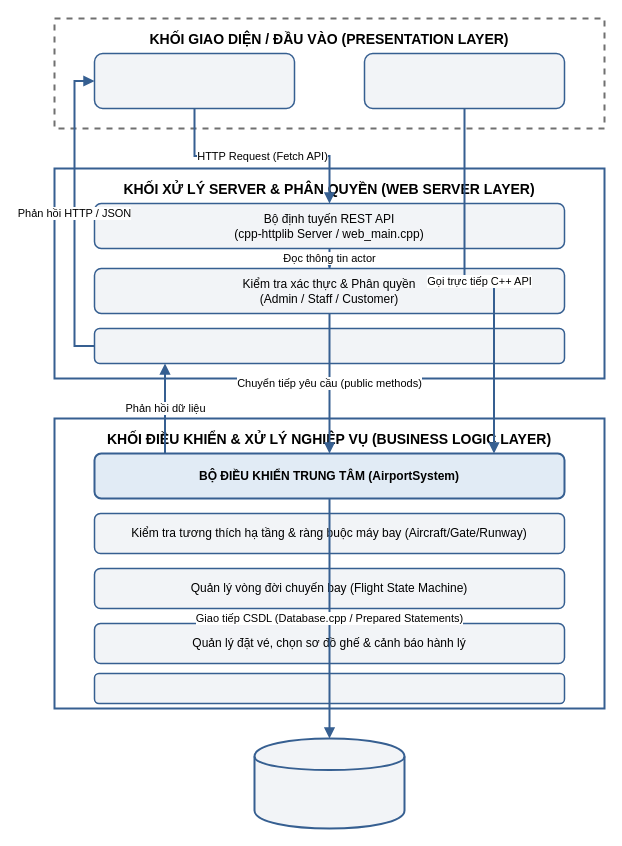
Some shapes in this 622 by 846 pixel diagram are drawn without their labels. The shapes that lost their labels are listed below. From the top down, each one's box as (x1, y1, x2, y2) in pixels, then its label:
(93, 52, 295, 109): Giao diện Web Trình duyệt (HTML5 / CSS3 / Vanilla JS)
(363, 52, 565, 109): Giao diện dòng lệnh CLI (Console C++ main.cpp)
(93, 327, 565, 364): Bộ sinh phản hồi JSON (Json.h)
(93, 672, 565, 704): Mô phỏng Virtual Clock & Hàng đợi cất/hạ cánh
(253, 737, 405, 829): CSDL SQLite WAL (data/skygate.db)
